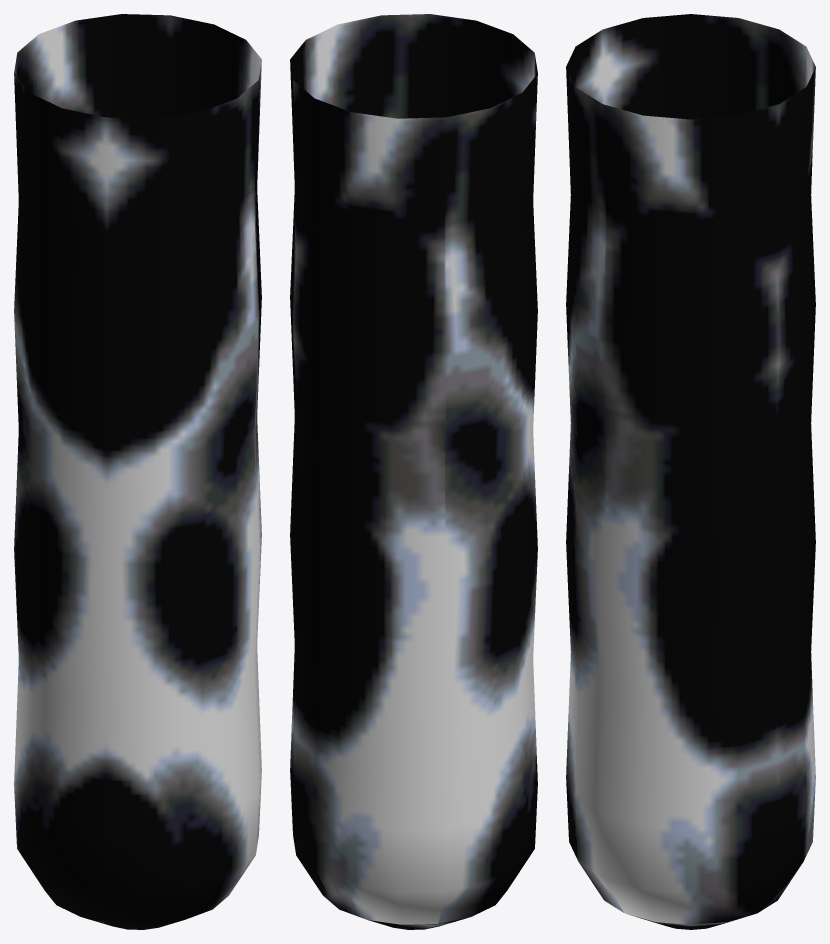
Rendered from Flame_pillar.obj.
The picture shows the model from 3 angles, left to right: view 1: azimuth 30°, elevation 25°; view 2: azimuth 150°, elevation 25°; view 3: azimuth 270°, elevation 25°; orthographic projection.
Parts seen in each view (by area): view 1: Cylindre.001; view 2: Cylindre.001; view 3: Cylindre.001.
Boxes of the visible parts, x1,y1,x2,y2 form: Cylindre.001: (14, 14, 261, 929); Cylindre.001: (290, 14, 537, 929); Cylindre.001: (566, 14, 815, 929).
Bounding box in the file's own units: 2.08 × 7.77 × 2.08.
